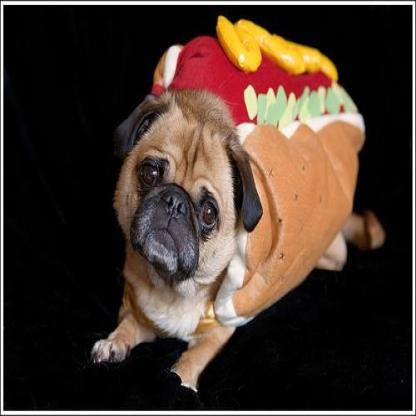pug: (87, 86, 386, 392)
